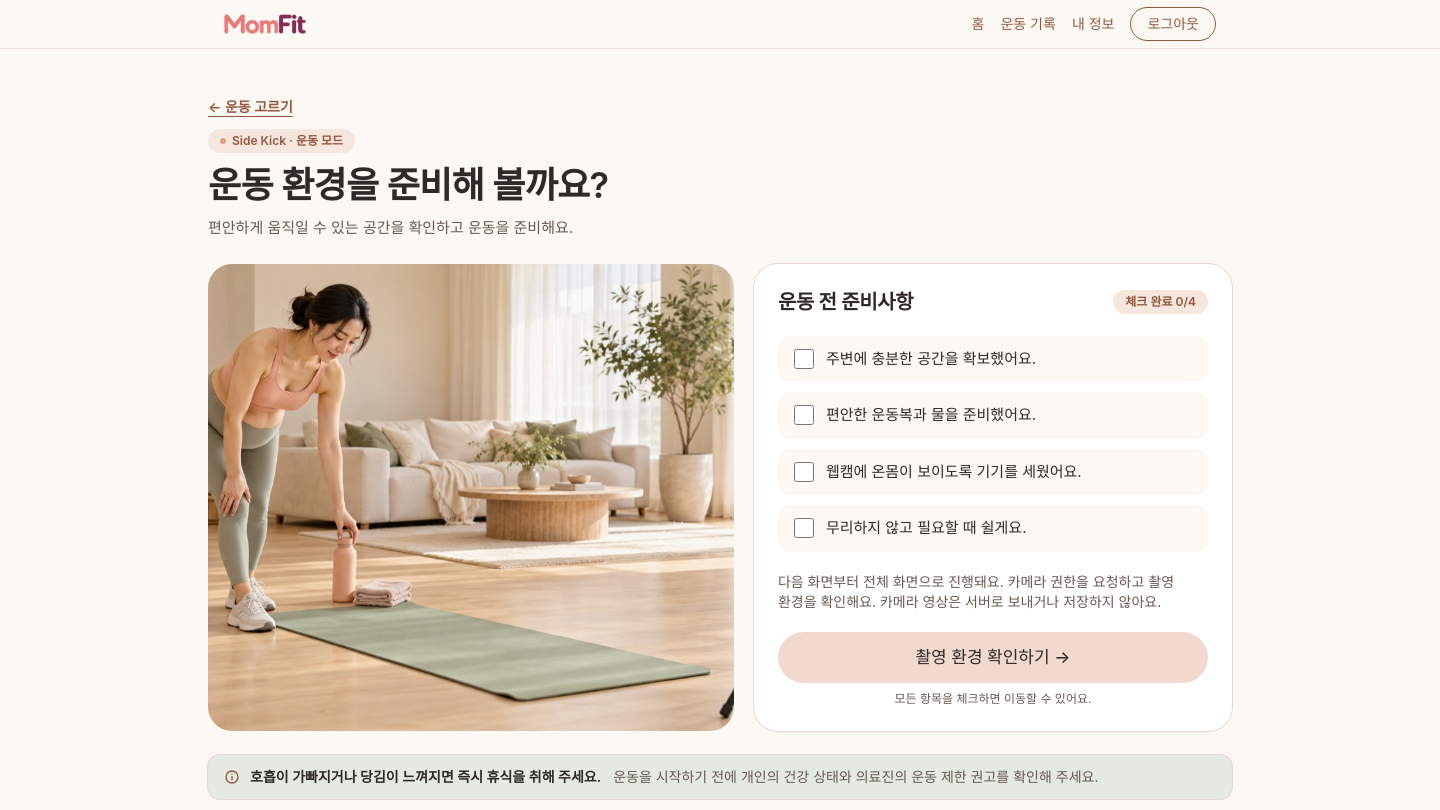
Scenario: WorkoutReadyPage › 체크를 해제하면 다시 이동할 수 없다
Click the checkbox labelled "주변에 충분한 공간을 확보했어요." at (804, 359), box [794,349,814,369]
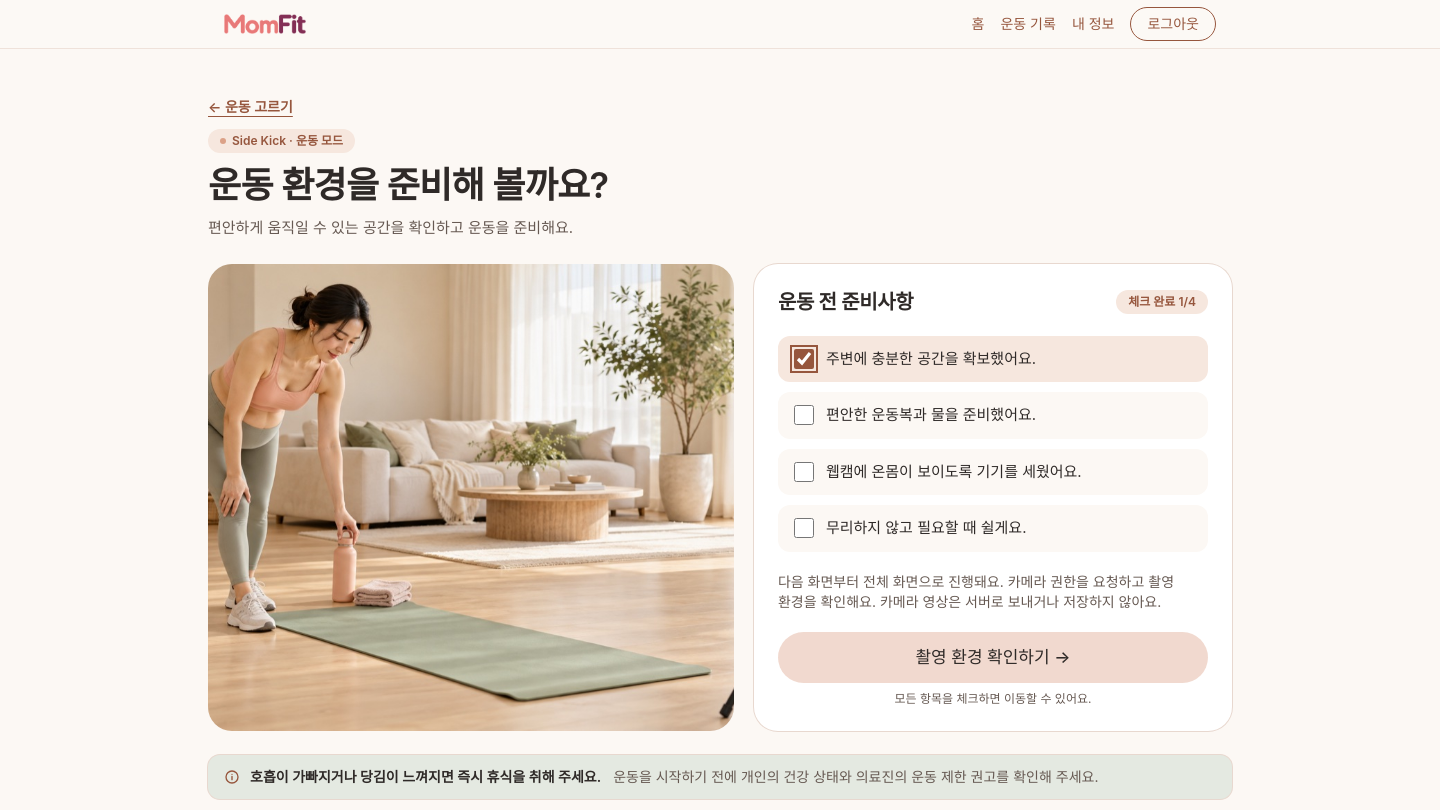
Click the checkbox labelled "편안한 운동복과 물을 준비했어요." at (804, 415), box [794,405,814,425]
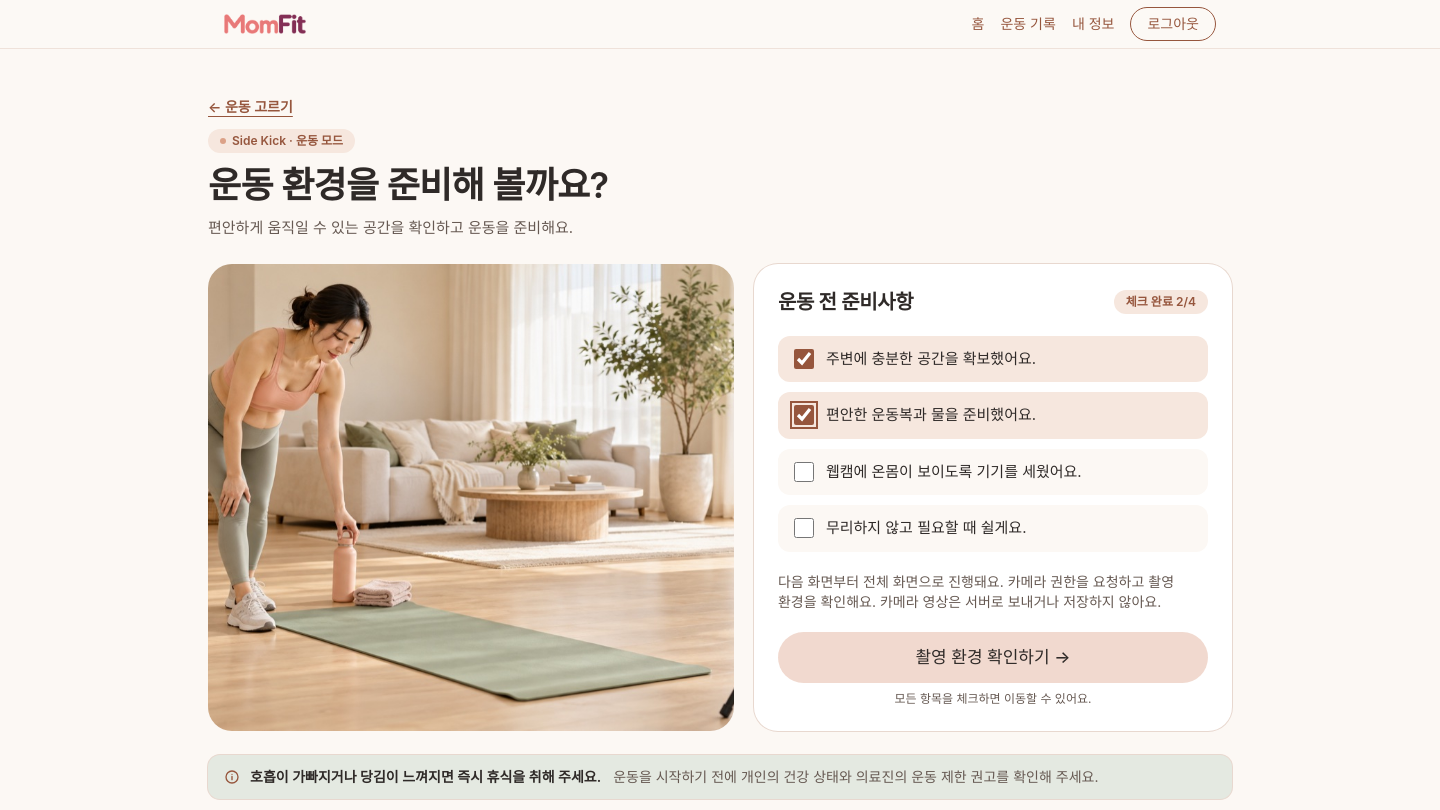
Click the checkbox labelled "웹캠에 온몸이 보이도록 기기를 세웠어요." at (804, 472), box [794,462,814,482]
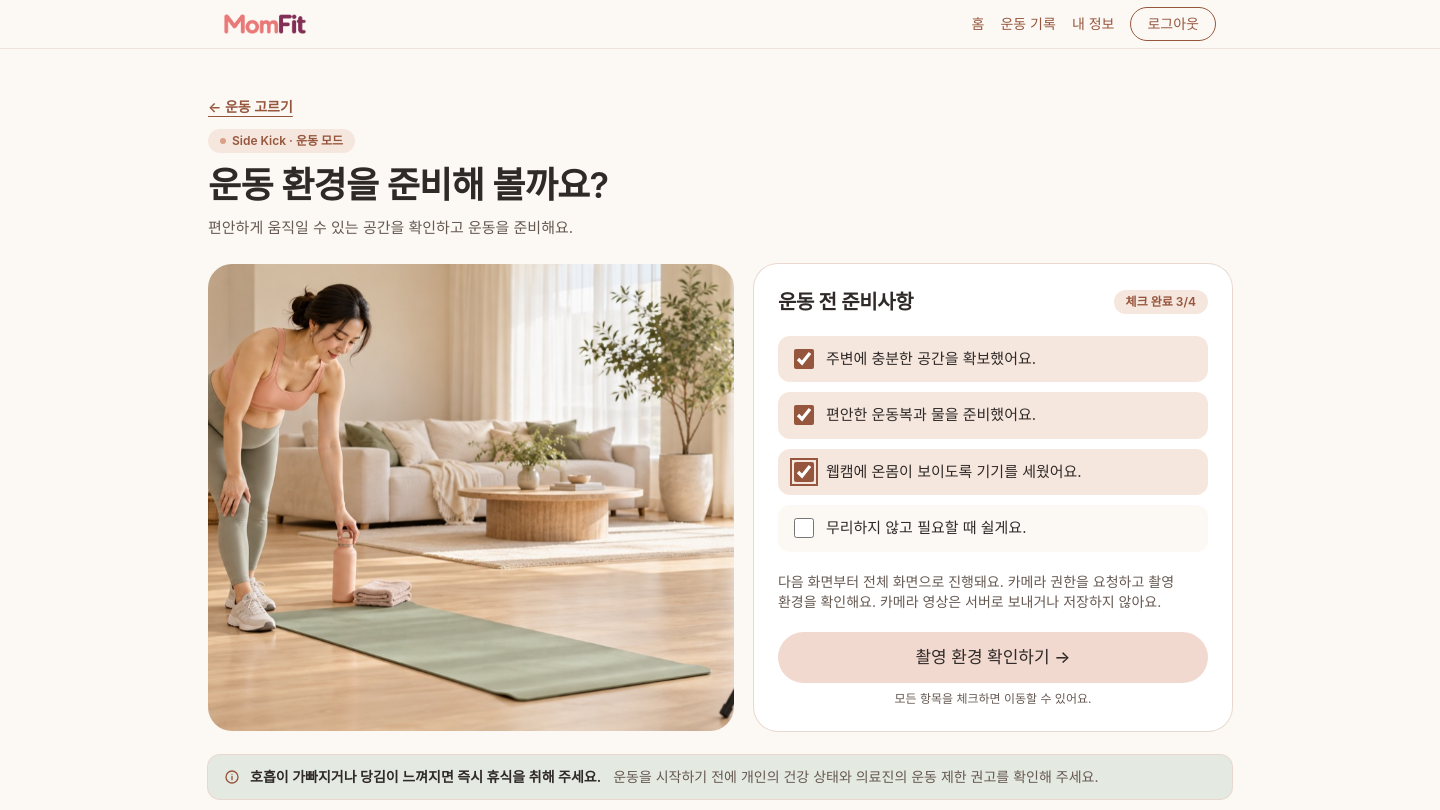
Click the checkbox labelled "무리하지 않고 필요할 때 쉴게요." at (804, 528), box [794,518,814,538]
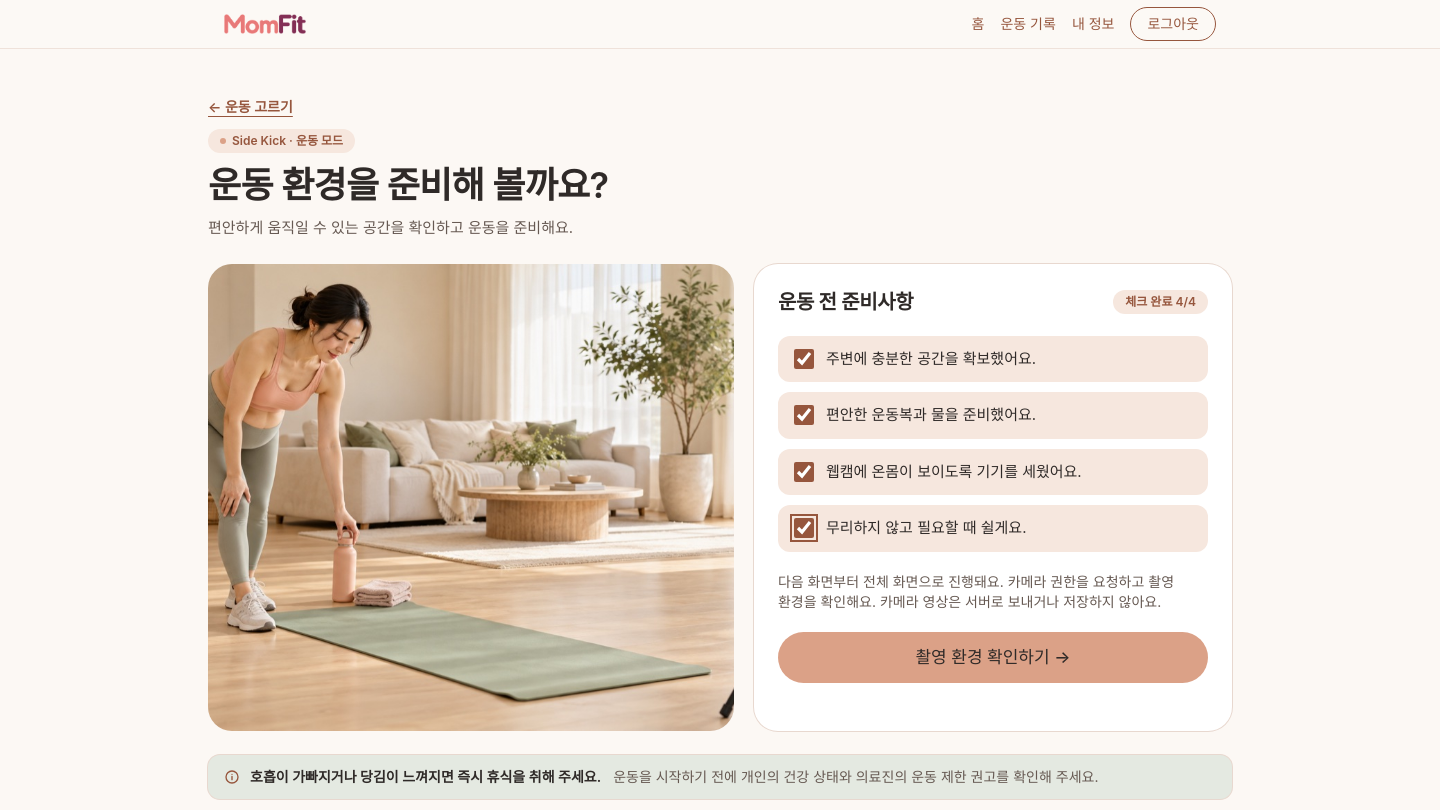
Expected: the button "촬영 환경 확인하기 →" is enabled, [778,632,1208,683]
Click the checkbox labelled "주변에 충분한 공간을 확보했어요." at (804, 359), box [794,349,814,369]
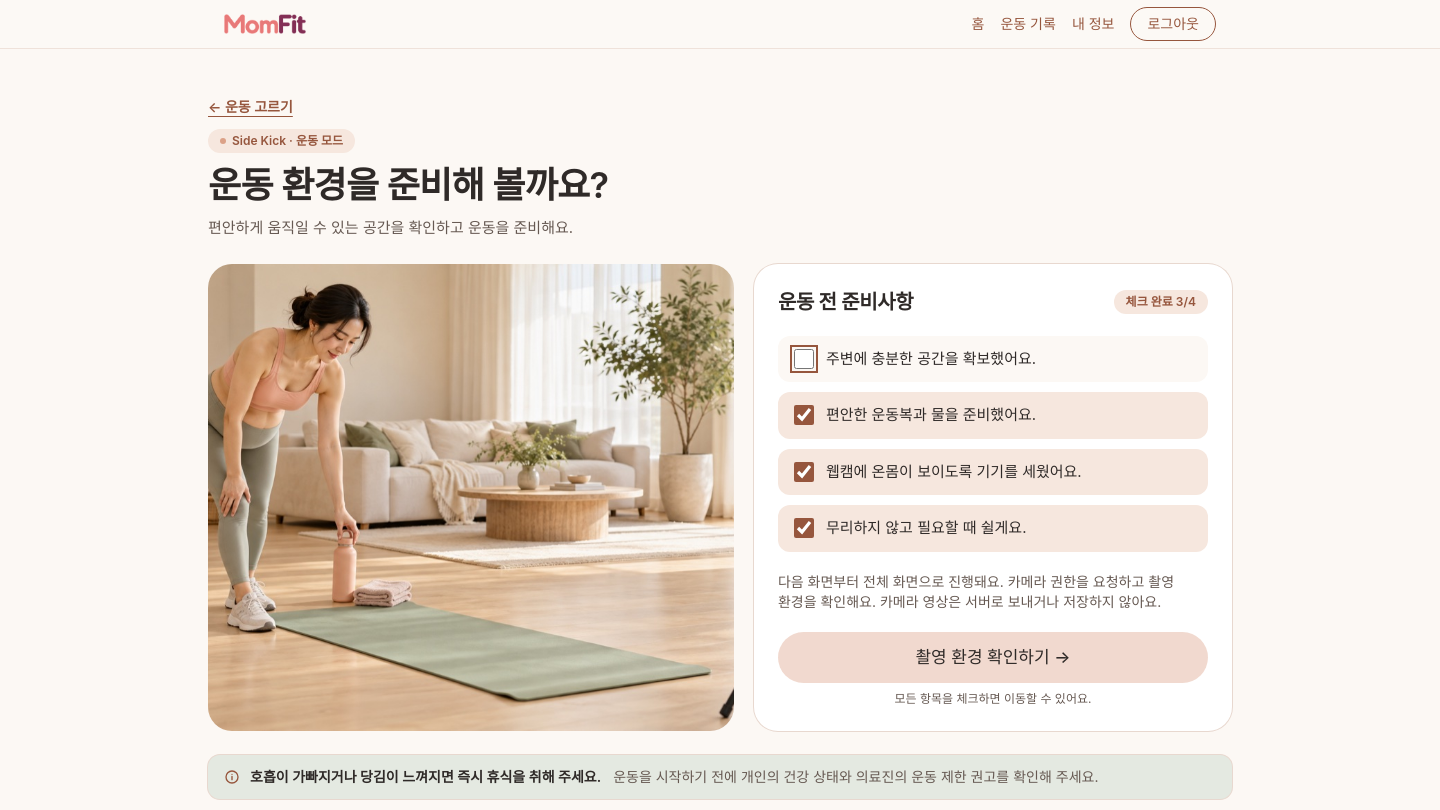
Expected: the button "촬영 환경 확인하기 →" is disabled, [778,632,1208,683]
